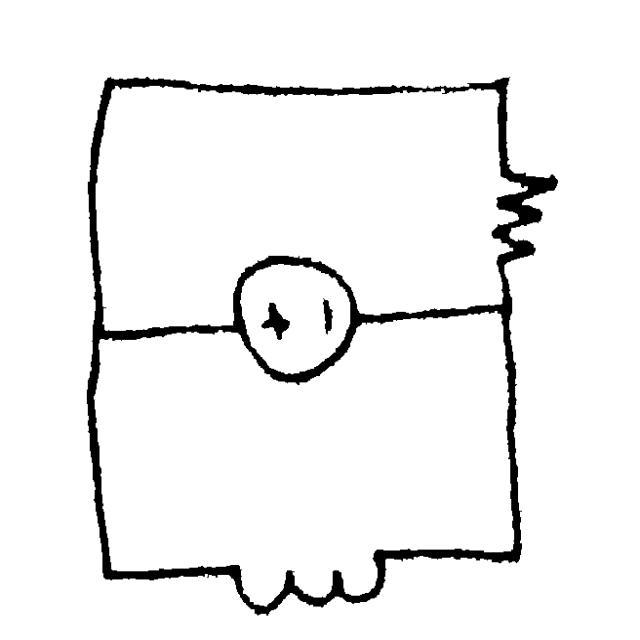dc: (219, 248, 366, 388)
inductor: (209, 525, 401, 619)
resistor: (461, 154, 563, 280)
